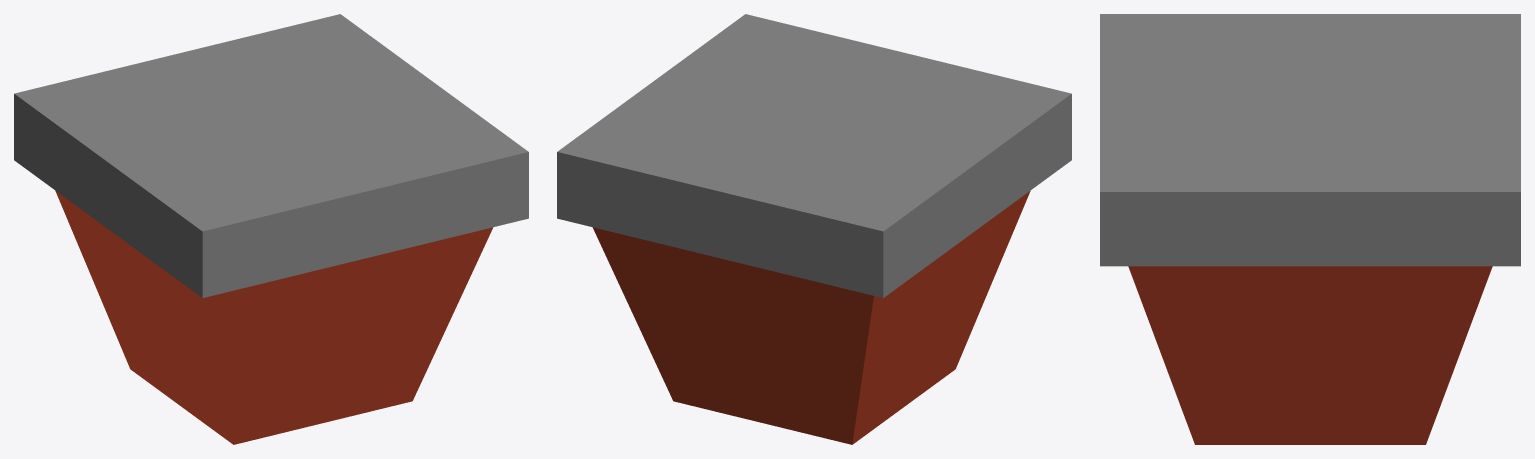
Rendered from alertLight.fbx.
3 views of the same model, side by side, from view 1: azimuth 30°, elevation 25°; view 2: azimuth 150°, elevation 25°; view 3: azimuth 270°, elevation 25° (orthographic). The views are drawn at different scales.
Parts seen in each view (by area): view 1: Cube; view 2: Cube; view 3: Cube.
Boxes of the visible parts, x1=… form: Cube: x1=14, y1=14, x2=528, y2=444; Cube: x1=557, y1=14, x2=1071, y2=444; Cube: x1=1100, y1=14, x2=1520, y2=444.
Bounding box in the file's own units: 200 × 154 × 200.
